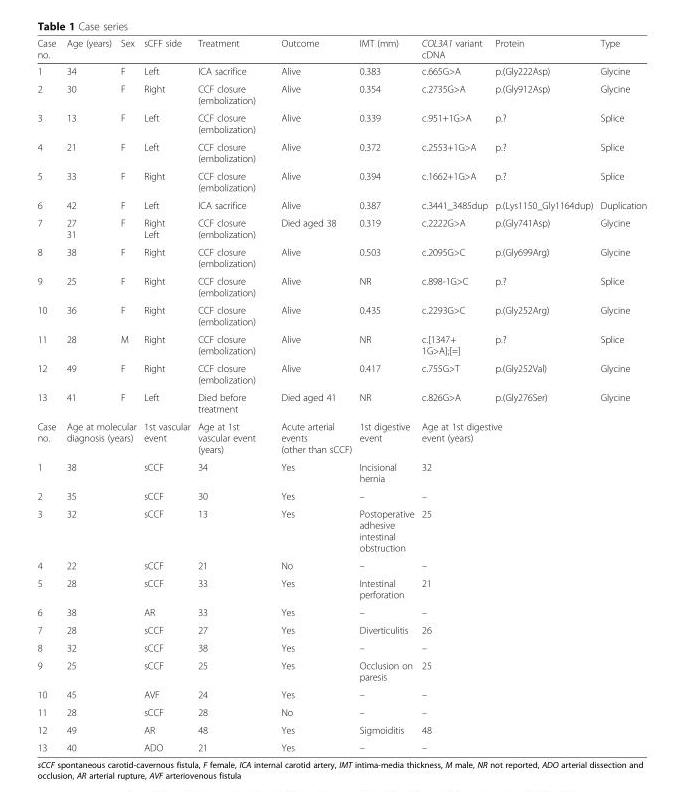table: (36, 37, 646, 752)
table column: (490, 37, 596, 752), (267, 37, 354, 752), (193, 37, 267, 752), (417, 37, 490, 752), (354, 37, 417, 752), (60, 37, 115, 752), (139, 37, 193, 752), (596, 37, 646, 752), (36, 37, 60, 752), (115, 37, 139, 752)
table column header: (36, 37, 646, 62)
table row: (36, 504, 646, 556), (36, 417, 646, 457), (36, 329, 646, 359), (36, 79, 646, 108), (36, 108, 646, 137), (36, 137, 646, 166), (36, 166, 646, 195), (36, 213, 646, 242), (36, 242, 646, 271), (36, 271, 646, 300), (36, 300, 646, 329), (36, 359, 646, 388), (36, 388, 646, 417), (36, 457, 646, 486), (36, 574, 646, 603), (36, 656, 646, 685), (36, 37, 646, 62), (36, 195, 646, 213), (36, 486, 646, 504), (36, 556, 646, 574), (36, 620, 646, 638), (36, 638, 646, 656), (36, 702, 646, 720), (36, 720, 646, 738), (36, 62, 646, 79), (36, 603, 646, 620), (36, 685, 646, 702), (36, 738, 646, 752)
table spanning cell: (417, 504, 646, 556), (417, 417, 646, 457), (417, 457, 646, 486), (417, 574, 646, 603), (417, 656, 646, 685), (417, 486, 646, 504), (417, 556, 646, 574), (417, 620, 646, 638), (417, 638, 646, 656), (417, 702, 646, 720), (417, 720, 646, 738), (60, 504, 139, 556), (417, 603, 646, 620), (417, 685, 646, 702), (417, 738, 646, 752), (60, 417, 139, 457), (60, 457, 139, 486), (60, 574, 139, 603), (60, 656, 139, 685), (60, 486, 139, 504), (60, 556, 139, 574), (60, 620, 139, 638), (60, 638, 139, 656), (60, 702, 139, 720), (60, 720, 139, 738), (60, 603, 139, 620), (60, 685, 139, 702), (60, 738, 139, 752)
